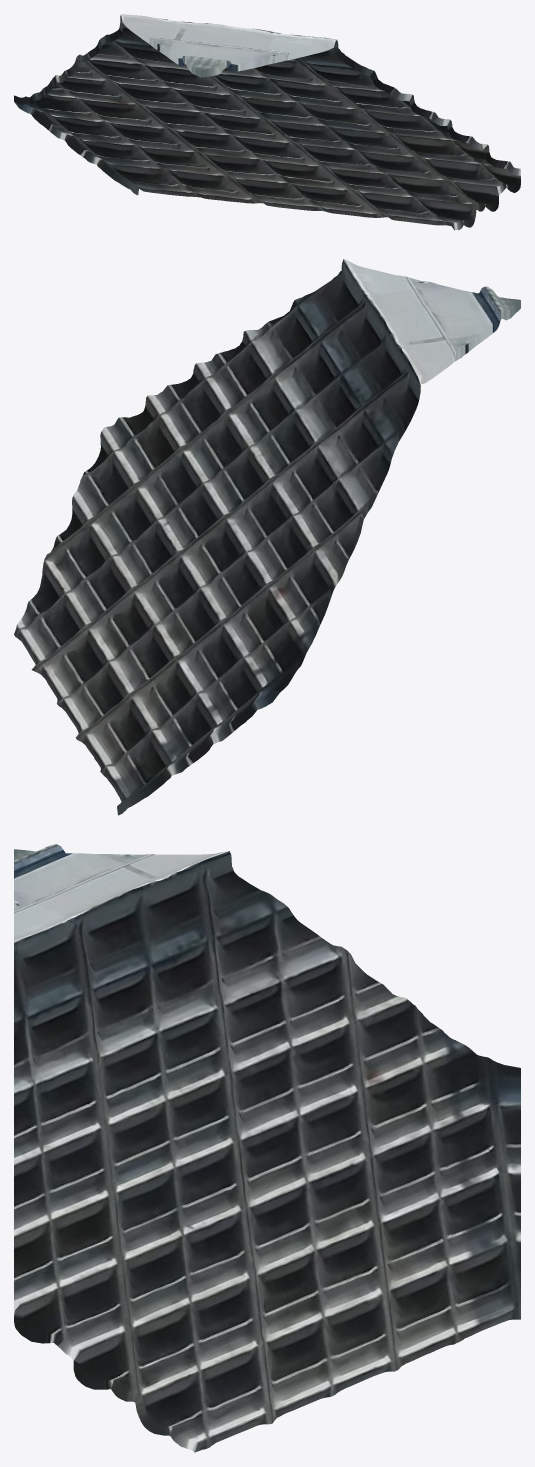
The model's file is z20-167784-405224-h1-yup-uvflip-v3-world.glb.
The picture shows the model from 3 angles, top to bottom: view 1: azimuth 30°, elevation 25°; view 2: azimuth 150°, elevation 25°; view 3: azimuth 270°, elevation 25°; orthographic projection. The views are drawn at different scales.
Bounding box in the file's own units: 30.16 × 26.52 × 30.32.
1 material, 1 textured.
